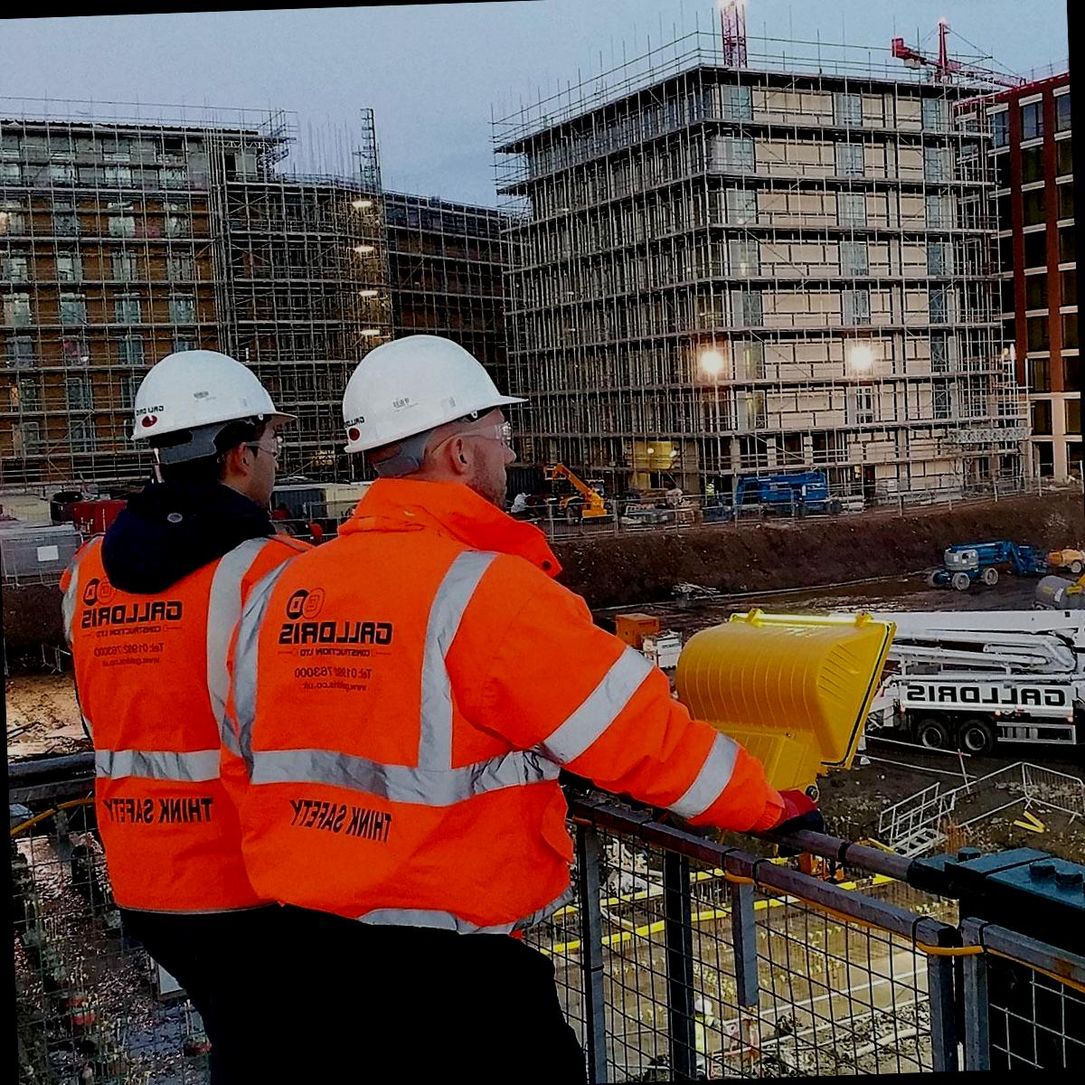helmet: (320, 321, 541, 464), (114, 339, 307, 458)
person: (260, 318, 614, 1085), (47, 336, 322, 1085)
